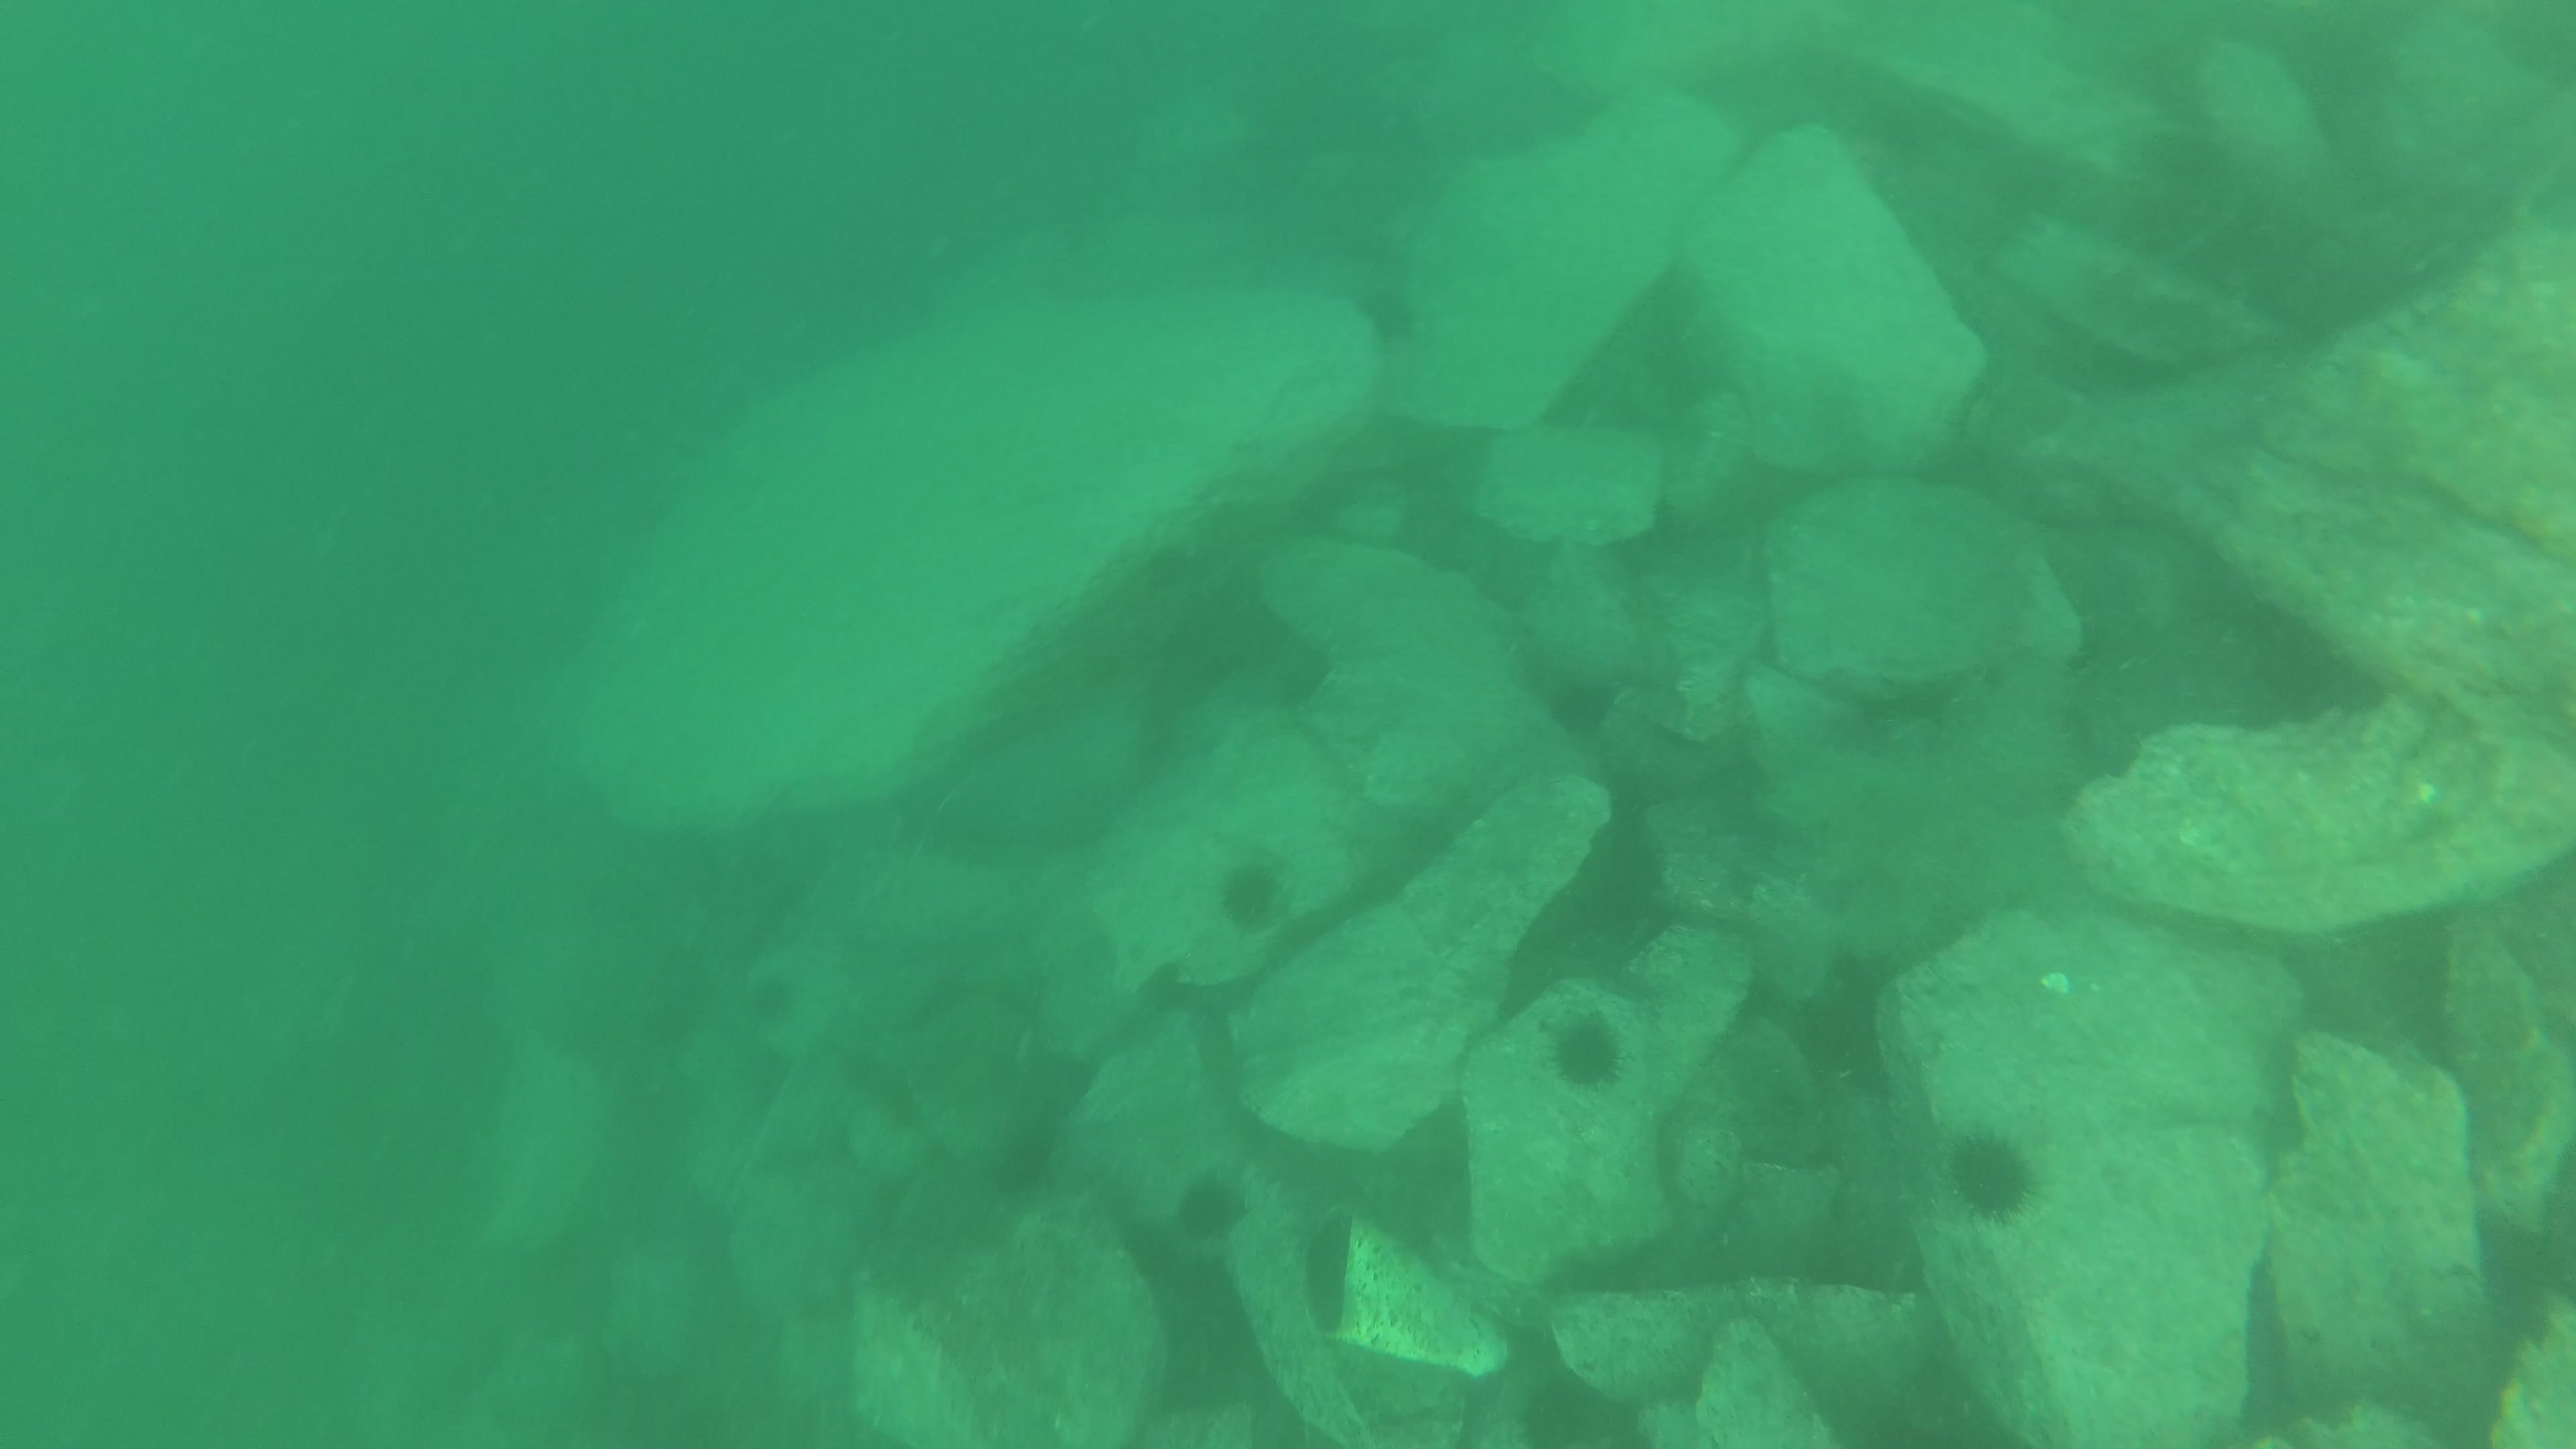echinus: (1955, 1132, 2040, 1214), (1557, 1012, 1628, 1092), (1178, 1169, 1247, 1246), (1219, 865, 1283, 931)
